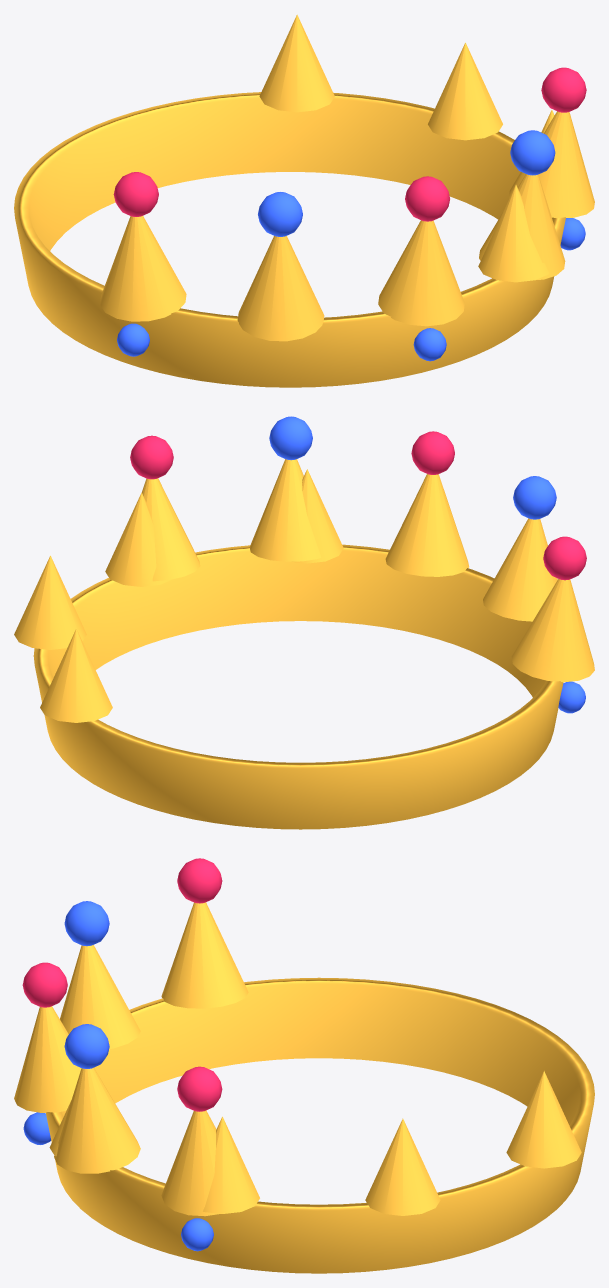
Rendered from crown.glb.
3 renders of one model, top to bottom at view 1: azimuth 30°, elevation 25°; view 2: azimuth 150°, elevation 25°; view 3: azimuth 270°, elevation 25°, orthographic. The views are drawn at different scales.
Parts seen in each view (by area): view 1: winner-crown; view 2: winner-crown; view 3: winner-crown.
Part boxes in pixels (x1,y1,x2,y2): winner-crown: [14, 14, 594, 387]; winner-crown: [14, 416, 594, 829]; winner-crown: [14, 858, 594, 1273].
Bounding box in the file's own units: 0.7519 × 0.29 × 0.7706.
